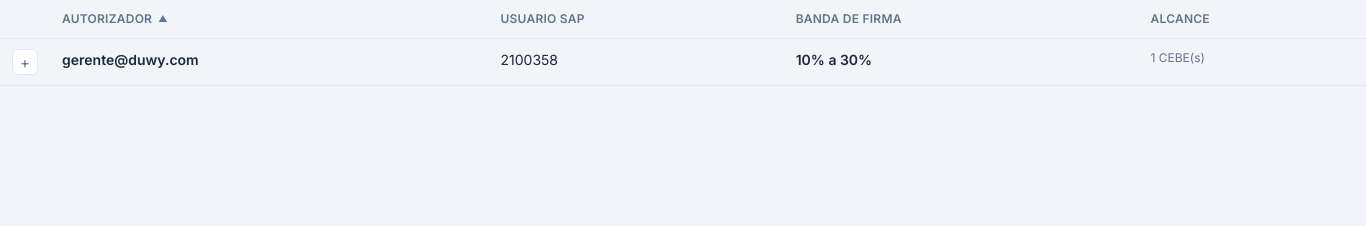
Test: AuthorizersTable › una asignacion 9999-12-31 se lee "Sin vencimiento"
This screenshot has width=1366, height=226.
Click the button named "Ver detalle" at (25, 62), box [12,49,38,75]
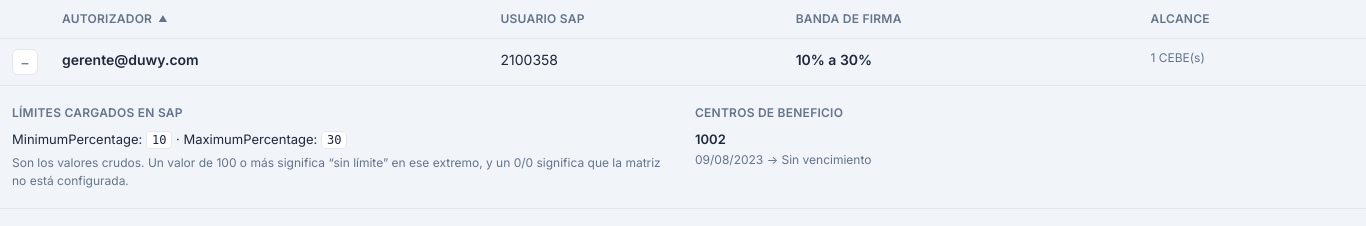
Expected: the text "09/08/2023 → Sin vencimiento" is shown, [695,152,871,166]
